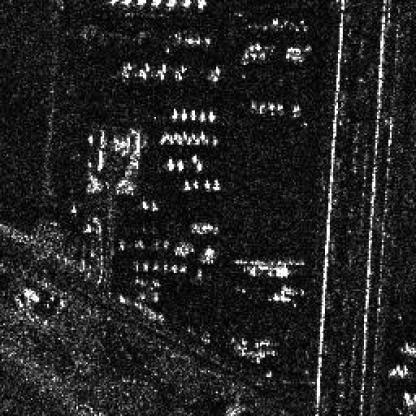airplane: (213, 169, 219, 190), (166, 156, 174, 169), (182, 180, 192, 190), (208, 110, 216, 122), (169, 109, 177, 119), (198, 112, 206, 122), (180, 109, 187, 120), (190, 110, 197, 121), (195, 162, 203, 171), (198, 130, 205, 140), (203, 178, 210, 188), (190, 153, 198, 161), (180, 130, 187, 138), (192, 180, 198, 188), (185, 136, 190, 145), (159, 135, 164, 143), (164, 132, 169, 140), (190, 132, 195, 140), (211, 138, 216, 145), (169, 135, 174, 141), (172, 132, 177, 138), (177, 137, 182, 143), (194, 138, 198, 145)
